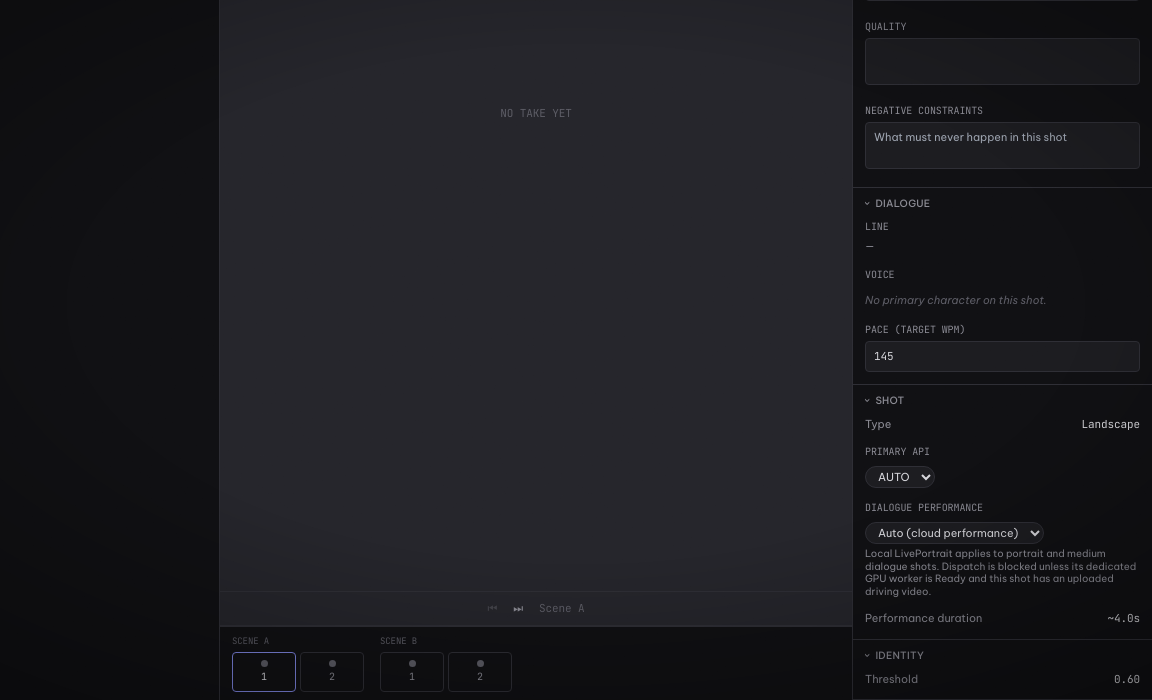
Test case: EditPage -- transport bar previous/next wiring (slice 13c) › Next walks a1 -> a2 -> b1 -> b2 across the scene boundary, then disables itself
The image size is (1152, 700).
(page scrolled)
Click the button named "Next shot".
click(518, 609)  # box [513,600,523,617]
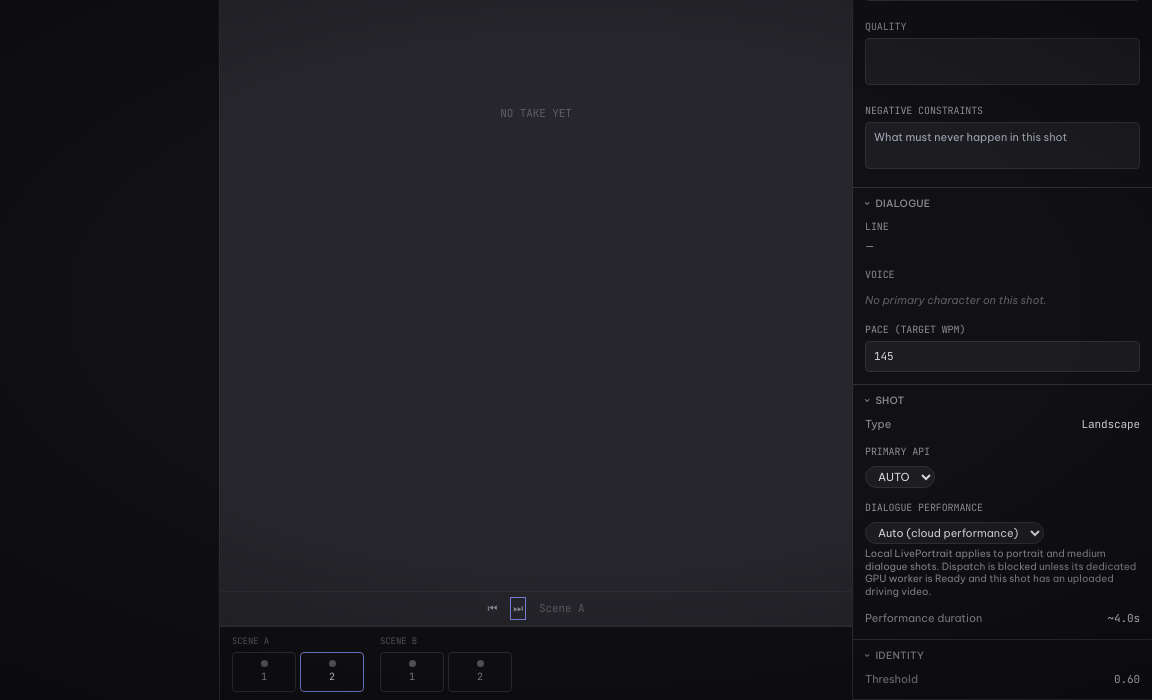
Click the button named "Next shot".
click(518, 609)  # box [513,600,523,617]
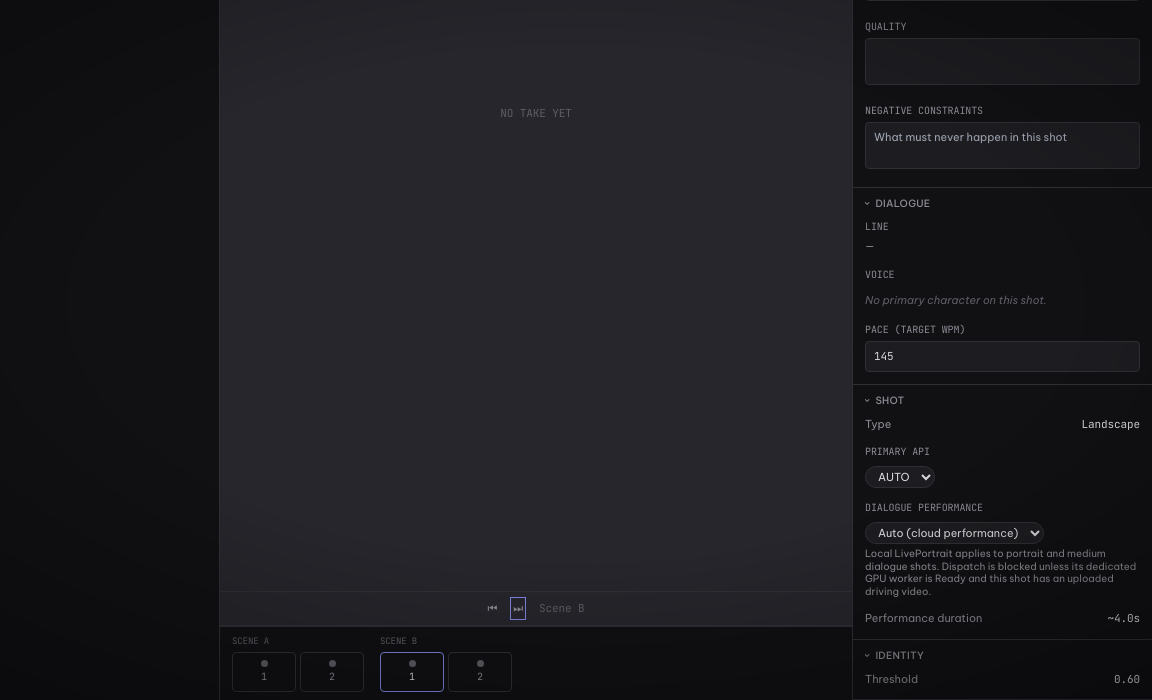
Check: the button named "Previous shot" is enabled, box [488,600,497,617]
Click the button named "Next shot".
click(518, 609)  # box [513,600,523,617]
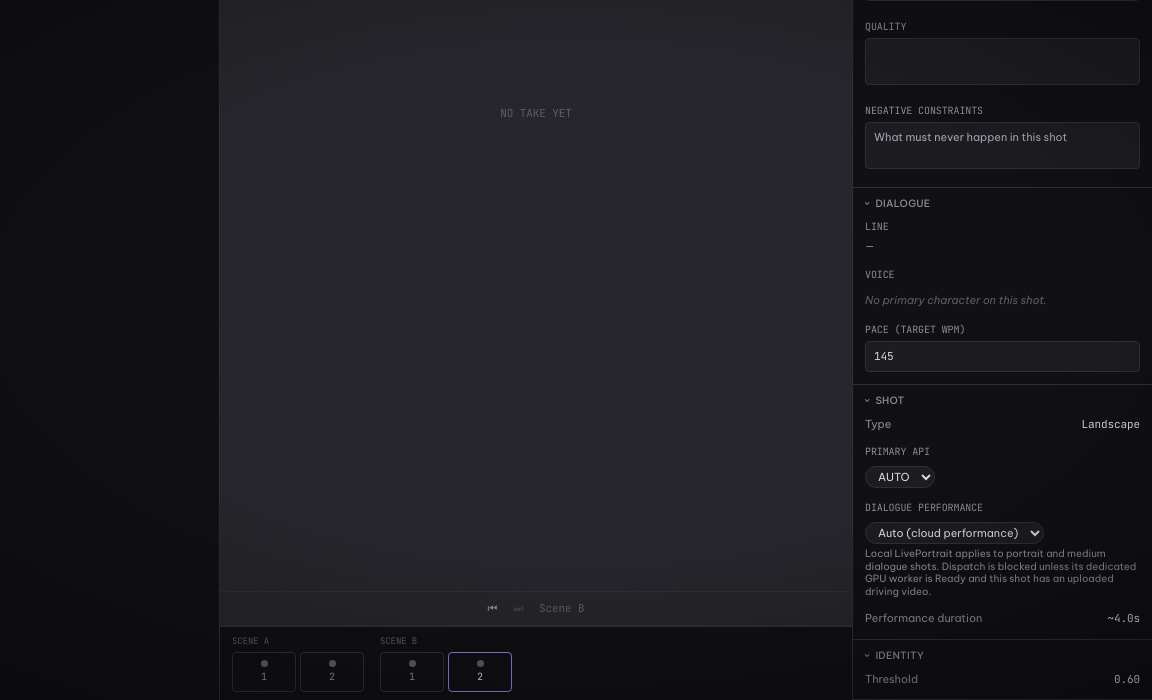
Check: the button named "Next shot" is disabled, box [513,600,523,617]
